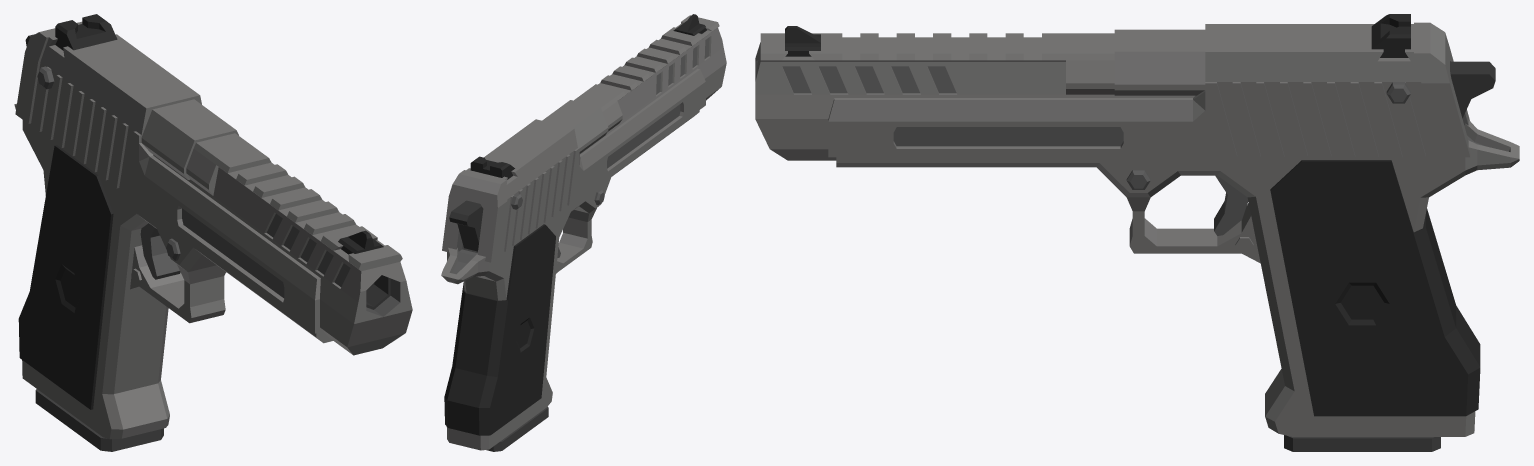
The model's file is Pistol_D.fbx.
3 views of the same model, side by side, from view 1: azimuth 30°, elevation 25°; view 2: azimuth 150°, elevation 25°; view 3: azimuth 270°, elevation 25° (orthographic). The views are drawn at different scales.
Visible parts, largest first — view 1: Pistol_D_Receiver, Pistol_D_Receiver_Part, Pistol_D_Barrel, Pistol_D_Mag, Pistol_D_Trigger; view 2: Pistol_D_Receiver, Pistol_D_Receiver_Part, Pistol_D_Barrel, Pistol_D_Bolt, Pistol_D_Mag; view 3: Pistol_D_Receiver, Pistol_D_Receiver_Part, Pistol_D_Barrel, Pistol_D_Mag, Pistol_D_Bolt, Pistol_D_Trigger.
Boxes of the visible parts, <box> form: Pistol_D_Receiver: <box>14,103,332,439</box>; Pistol_D_Receiver_Part: <box>15,14,323,333</box>; Pistol_D_Barrel: <box>133,99,412,355</box>; Pistol_D_Mag: <box>35,389,163,451</box>; Pistol_D_Trigger: <box>140,223,180,279</box>; Pistol_D_Receiver: <box>441,110,699,450</box>; Pistol_D_Receiver_Part: <box>442,68,705,262</box>; Pistol_D_Barrel: <box>542,14,726,154</box>; Pistol_D_Bolt: <box>449,200,483,251</box>; Pistol_D_Mag: <box>486,406,548,451</box>; Pistol_D_Receiver: <box>836,120,1519,436</box>; Pistol_D_Receiver_Part: <box>828,14,1470,157</box>; Pistol_D_Barrel: <box>755,26,1223,160</box>; Pistol_D_Mag: <box>1284,435,1440,451</box>; Pistol_D_Bolt: <box>1450,61,1495,118</box>; Pistol_D_Trigger: <box>1214,175,1248,235</box>.
Size of the model in its own units: 0.0425 by 0.1875 by 0.316.
